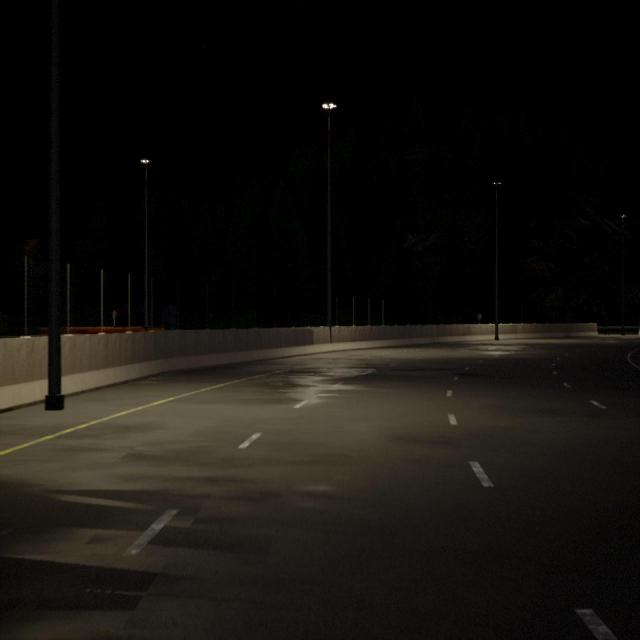Traffic_Signs: (478, 314, 482, 319)
traffic_light: (115, 312, 117, 317)
